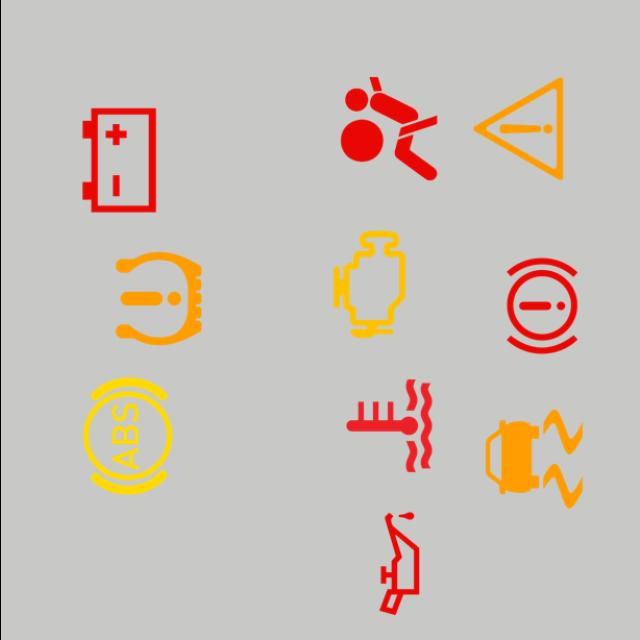Anti Lock Braking System: (62, 372, 190, 500)
Braking System Issue: (478, 242, 606, 370)
Charging System Issue: (54, 96, 182, 224)
Check Engine: (304, 220, 432, 348)
Electronic Stability Problem -ESP-: (469, 395, 597, 523)
Engine Overheating Warning Light: (324, 362, 452, 490)
Low Engine Oil Warning Light: (334, 500, 462, 628)
Low Tire Pressure Warning Light: (94, 235, 222, 362)
Master warning light: (454, 64, 582, 192)
SRS-Airbag: (324, 64, 452, 192)
